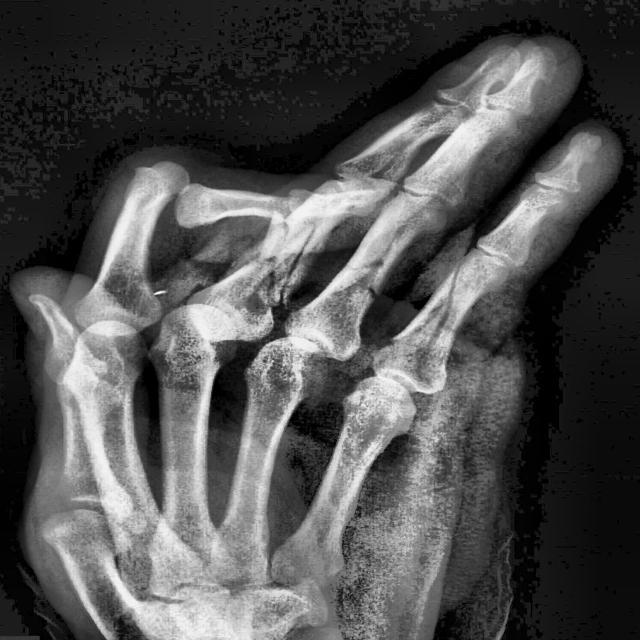fracture: (410, 254, 473, 389), (271, 216, 320, 308), (342, 258, 390, 302), (173, 170, 197, 198)
